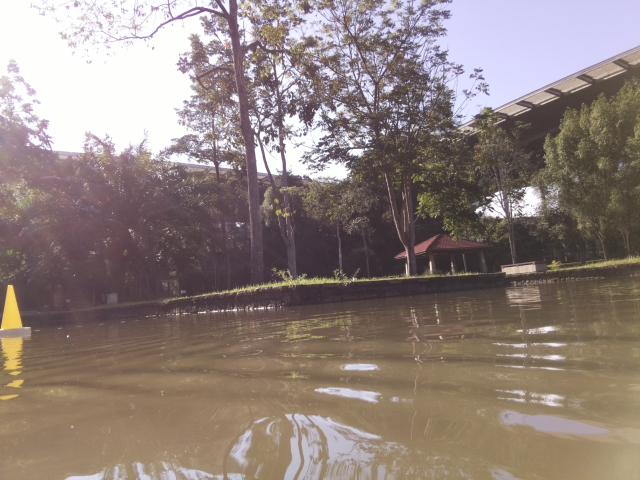checkpoint: (1, 283, 32, 339)
